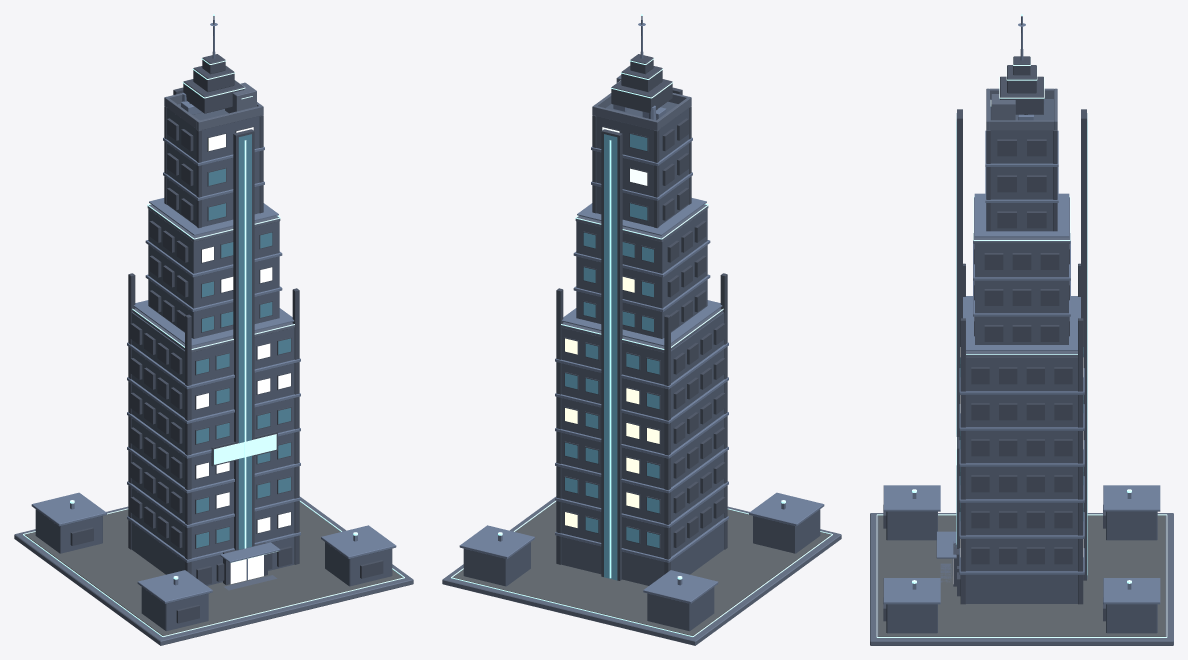
Rendered from core_tower.glb.
The picture shows the model from 3 angles, left to right: view 1: azimuth 30°, elevation 25°; view 2: azimuth 150°, elevation 25°; view 3: azimuth 270°, elevation 25°; orthographic projection. The views are drawn at different scales.
Parts seen in each view (by area): view 1: core_tower_Graphite@corporate, core_tower_DarkAlloy@corporate, core_tower_Steel@corporate, core_tower_Sidewalk, core_tower_BlackGlass, core_tower_Concrete@corporate, core_tower_Cyan, core_tower_WarmGlass; view 2: core_tower_Graphite@corporate, core_tower_DarkAlloy@corporate, core_tower_Steel@corporate, core_tower_Sidewalk, core_tower_BlackGlass, core_tower_Concrete@corporate, core_tower_Cyan, core_tower_WarmGlass; view 3: core_tower_Graphite@corporate, core_tower_DarkAlloy@corporate, core_tower_Steel@corporate, core_tower_Sidewalk, core_tower_Concrete@corporate, core_tower_Cyan, core_tower_BlackGlass.
Boxes of the visible parts, left/top/right/bottom form: core_tower_Graphite@corporate: left=35, top=103, right=392, bottom=631; core_tower_DarkAlloy@corporate: left=70, top=54, right=383, bottom=623; core_tower_Steel@corporate: left=31, top=16, right=396, bottom=603; core_tower_Sidewalk: left=24, top=502, right=402, bottom=635; core_tower_BlackGlass: left=196, top=134, right=290, bottom=549; core_tower_Concrete@corporate: left=14, top=82, right=413, bottom=645; core_tower_Cyan: left=23, top=14, right=404, bottom=636; core_tower_WarmGlass: left=196, top=127, right=290, bottom=583; core_tower_Graphite@corporate: left=463, top=101, right=820, bottom=631; core_tower_DarkAlloy@corporate: left=556, top=54, right=727, bottom=580; core_tower_Steel@corporate: left=459, top=16, right=824, bottom=603; core_tower_Sidewalk: left=453, top=502, right=831, bottom=635; core_tower_BlackGlass: left=565, top=134, right=659, bottom=580; core_tower_Concrete@corporate: left=442, top=75, right=841, bottom=645; core_tower_Cyan: left=451, top=14, right=832, bottom=636; core_tower_WarmGlass: left=565, top=277, right=659, bottom=527; core_tower_Graphite@corporate: left=886, top=99, right=1157, bottom=633; core_tower_DarkAlloy@corporate: left=883, top=56, right=1105, bottom=621; core_tower_Steel@corporate: left=883, top=16, right=1160, bottom=604; core_tower_Sidewalk: left=878, top=515, right=1165, bottom=636; core_tower_Concrete@corporate: left=870, top=88, right=1173, bottom=645; core_tower_Cyan: left=876, top=14, right=1167, bottom=637; core_tower_BlackGlass: left=956, top=113, right=1087, bottom=578.
Bounding box in the file's own units: 26 × 53.62 × 26.
